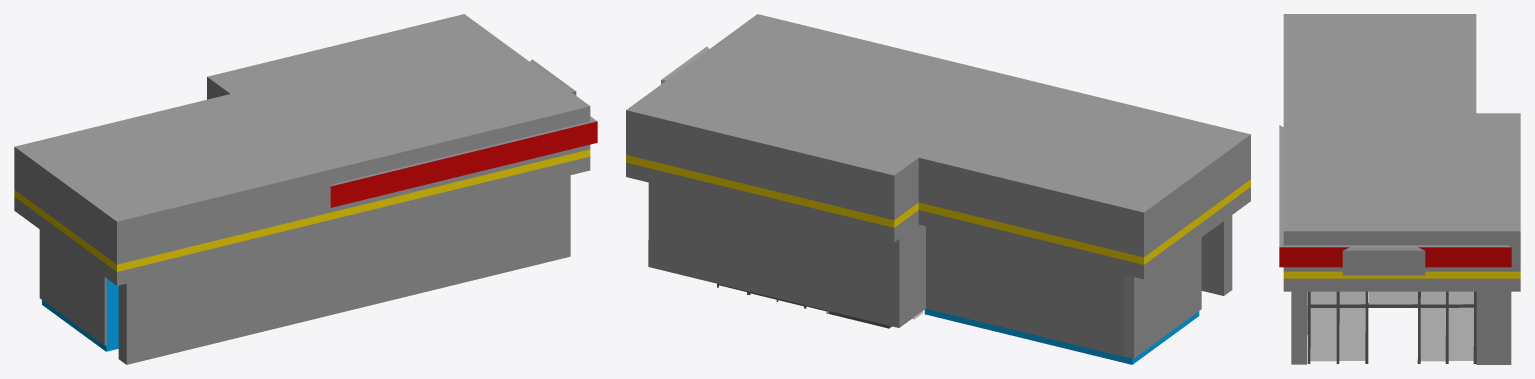
File: Oxxo.fbx
3 renders of one model, left to right at view 1: azimuth 30°, elevation 25°; view 2: azimuth 150°, elevation 25°; view 3: azimuth 270°, elevation 25°, orthographic. The views are drawn at different scales.
Parts seen in each view (by area): view 1: pCube127, pCube98, polySurface65, polySurface108, polySurface117; view 2: pCube127, polySurface65, pCube98, polySurface116; view 3: pCube127, polySurface65, polySurface238, polySurface237, polySurface223, polySurface222, pCube98, polySurface234, polySurface226, polySurface225, polySurface232, polySurface231 (+8 smaller).
Part boxes in pixels (x1,y1,x2,y2): pCube127: [14, 14, 597, 285]; pCube98: [118, 175, 570, 364]; polySurface65: [39, 229, 106, 345]; polySurface108: [42, 300, 118, 351]; polySurface117: [106, 299, 118, 338]; pCube127: [626, 14, 1250, 279]; polySurface65: [648, 182, 1201, 358]; pCube98: [1201, 215, 1232, 295]; polySurface116: [924, 308, 1122, 362]; pCube127: [1279, 14, 1520, 291]; polySurface65: [1476, 291, 1511, 364]; polySurface238: [1310, 308, 1336, 361]; polySurface237: [1339, 308, 1365, 360]; polySurface223: [1420, 308, 1445, 361]; polySurface222: [1448, 307, 1473, 360]; pCube98: [1291, 291, 1306, 364]; polySurface234: [1309, 303, 1473, 307]; polySurface226: [1310, 291, 1336, 304]; polySurface225: [1339, 291, 1365, 304]; polySurface232: [1420, 291, 1445, 304]; polySurface231: [1448, 291, 1473, 304].
Size of the model in its own units: 48.64 by 14.86 by 22.03.
